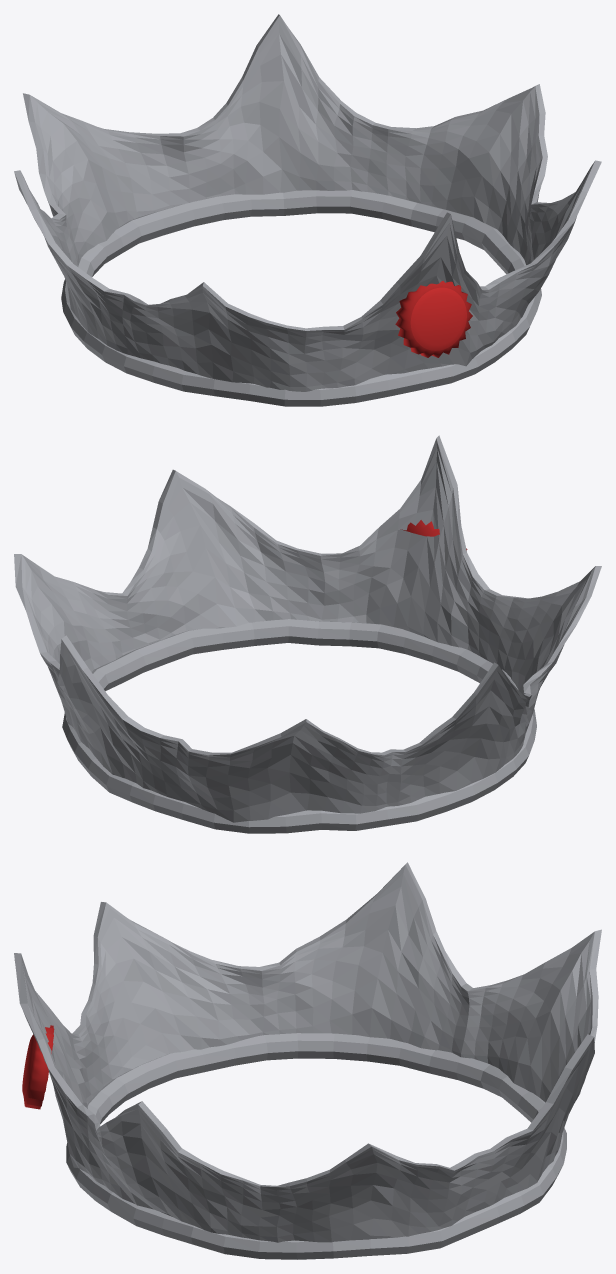
Rendered from tinfoil_crown.glb.
3 renders of one model, top to bottom at view 1: azimuth 30°, elevation 25°; view 2: azimuth 150°, elevation 25°; view 3: azimuth 270°, elevation 25°, orthographic. The views are drawn at different scales.
Visible parts, largest first — view 1: TinfoilCrown; view 2: TinfoilCrown; view 3: TinfoilCrown.
Part boxes in pixels (x1,y1,x2,y2): TinfoilCrown: [14, 14, 601, 406]; TinfoilCrown: [14, 435, 601, 833]; TinfoilCrown: [14, 862, 601, 1259].
Bounding box in the file's own units: 0.4906 × 0.1863 × 0.4701.
